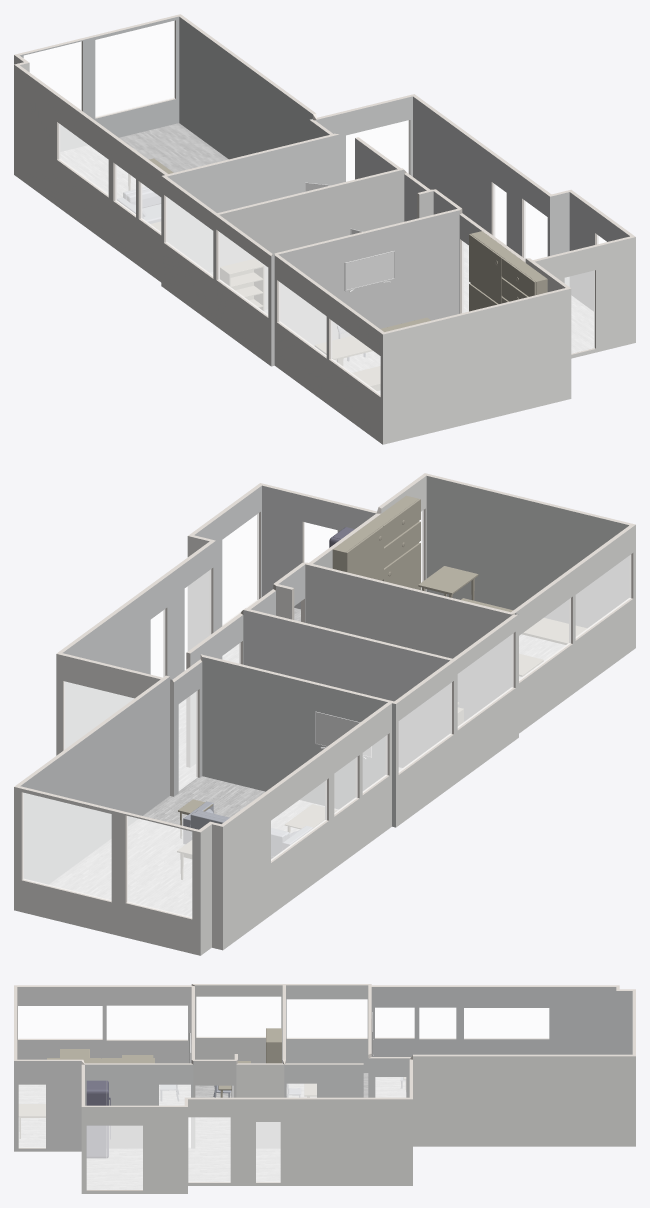
The model's file is Aile_220-223.glb.
The picture shows the model from 3 angles, top to bottom: view 1: azimuth 30°, elevation 25°; view 2: azimuth 150°, elevation 25°; view 3: azimuth 270°, elevation 25°; orthographic projection. The views are drawn at different scales.
Parts seen in each view (by area): view 1: wall_11, wall_55, wall_24, wall_37, wall_7, wall_57, wall_33, wall_25, window_0, window_9, wall_19, floor_Living_Room_1 (+43 smaller); view 2: wall_49, wall_24, wall_37, wall_15, wall_14, wall_41, floor_Living_Room_1, wall_33, wall_23, wall_25, window_0, window_9 (+54 smaller); view 3: wall_5, wall_3, wall_75, wall_77, wall_8, wall_79, floor_Kitchen, wall_61, door_4, door_13, wall_59, window_3 (+42 smaller).
Boxes of the visible parts, x1,y1,x2,y2 form: wall_11: [383, 288, 571, 444]; wall_55: [278, 210, 459, 345]; wall_24: [14, 65, 164, 282]; wall_37: [179, 17, 312, 159]; wall_7: [219, 169, 404, 309]; wall_57: [169, 134, 339, 272]; wall_33: [413, 96, 549, 256]; wall_25: [274, 255, 382, 444]; window_0: [95, 21, 174, 117]; window_9: [95, 21, 174, 116]; wall_19: [535, 237, 635, 358]; floor_Living_Room_1: [60, 123, 228, 198]; wall_49: [426, 476, 628, 627]; wall_24: [223, 703, 391, 949]; wall_37: [20, 677, 169, 884]; wall_15: [202, 657, 387, 809]; wall_14: [305, 564, 510, 721]; wall_41: [243, 610, 449, 767]; floor_Living_Room_1: [49, 776, 338, 916]; wall_33: [63, 541, 215, 748]; wall_23: [14, 787, 200, 955]; wall_25: [515, 525, 635, 733]; window_0: [23, 793, 111, 900]; window_9: [23, 793, 111, 900]; wall_5: [413, 1056, 635, 1146]; wall_3: [188, 1099, 412, 1185]; wall_75: [371, 987, 616, 1056]; wall_77: [17, 987, 191, 1063]; wall_8: [81, 1107, 187, 1193]; wall_79: [14, 1061, 81, 1151]; floor_Kitchen: [87, 1148, 280, 1189]; wall_61: [85, 1064, 193, 1148]; door_4: [87, 1126, 142, 1189]; door_13: [87, 1126, 142, 1189]; wall_59: [286, 985, 368, 1072]; window_3: [196, 997, 280, 1036].
Size of the model in its own units: 8.41 by 2.97 by 18.52.
87 materials, 6 textured.
